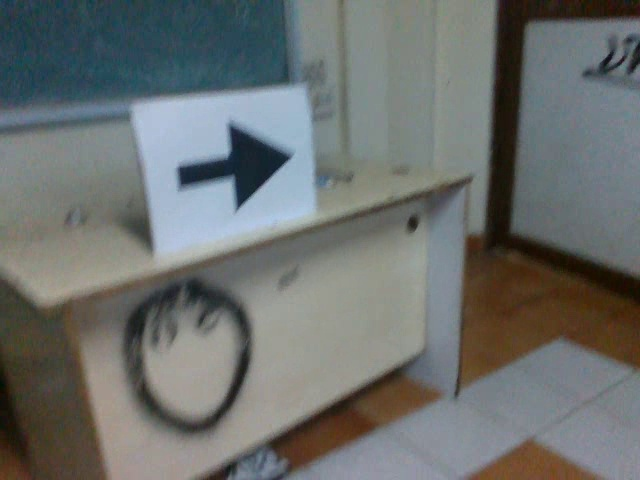Right: (163, 117, 296, 215)
